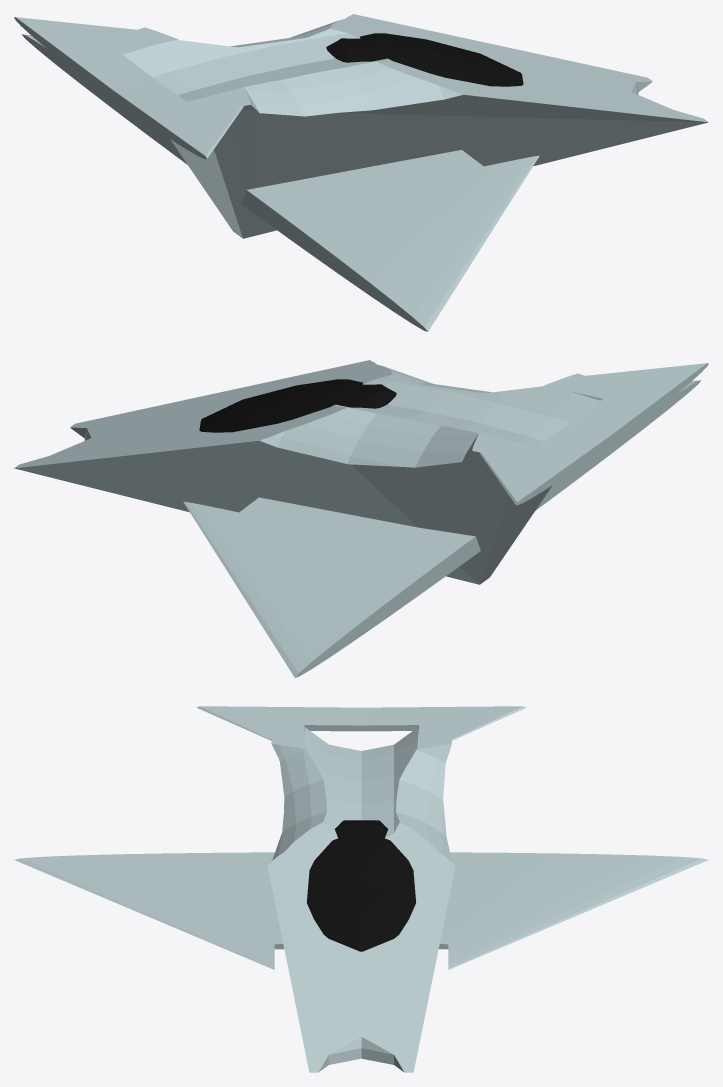
Rendered from ship-space.fbx.
3 renders of one model, top to bottom at view 1: azimuth 30°, elevation 25°; view 2: azimuth 150°, elevation 25°; view 3: azimuth 270°, elevation 25°, orthographic. The views are drawn at different scales.
Visible parts, largest first — view 1: Ship; view 2: Ship; view 3: Ship.
Boxes of the visible parts, x1,y1,x2,y2 form: Ship: (14,14,708,331); Ship: (14,360,708,677); Ship: (14,706,708,1072).
Size of the model in its own units: 6.45 by 1.95 by 8.
